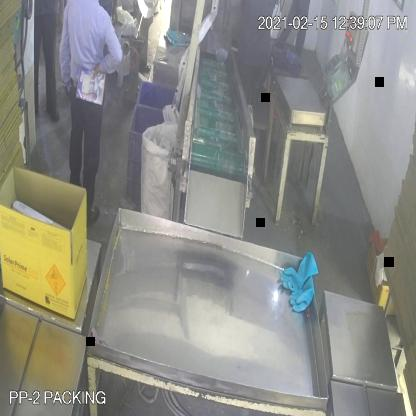glove: (280, 244, 322, 321)
no_glove: (89, 18, 127, 86)
